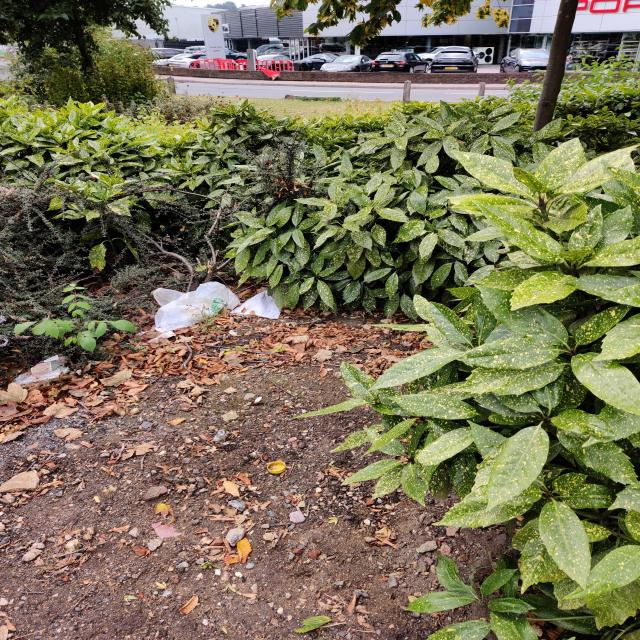litter: (150, 280, 288, 334), (265, 459, 289, 475), (212, 428, 230, 446)
